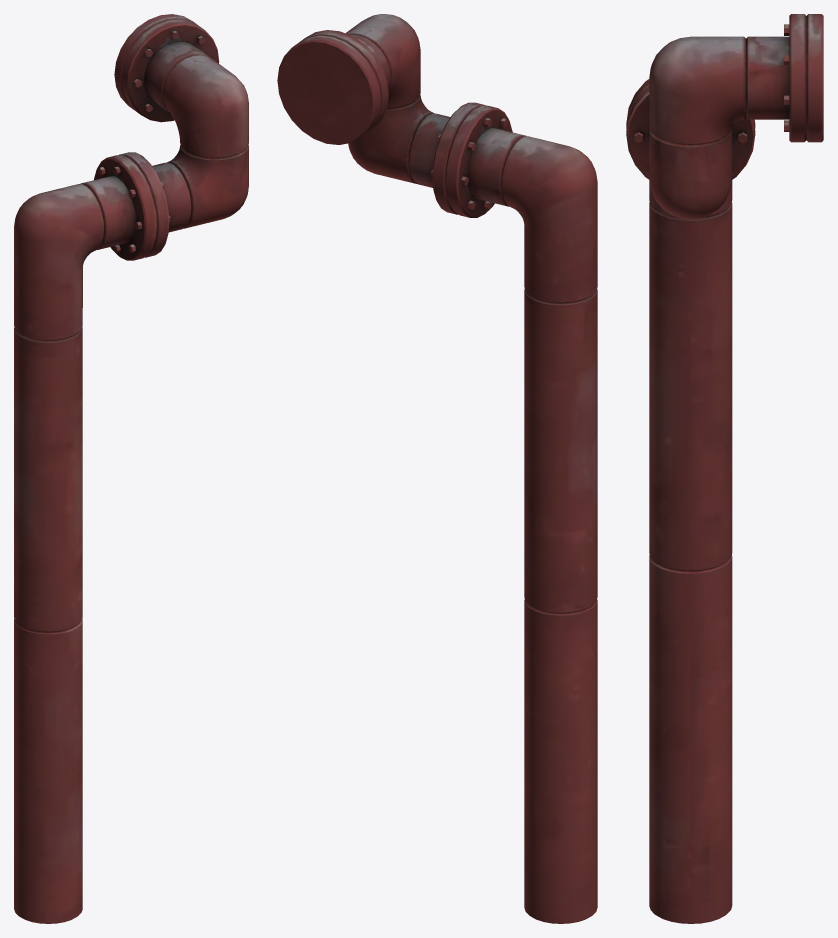
3 views of the same model, side by side, from view 1: azimuth 30°, elevation 25°; view 2: azimuth 150°, elevation 25°; view 3: azimuth 270°, elevation 25° (orthographic). The views are drawn at different scales.
Parts seen in each view (by area): view 1: body0_model0_lod0_mesh0; view 2: body0_model0_lod0_mesh0; view 3: body0_model0_lod0_mesh0.
Part boxes in pixels (<box>): body0_model0_lod0_mesh0: <box>14,14,248,923</box>; body0_model0_lod0_mesh0: <box>277,14,597,923</box>; body0_model0_lod0_mesh0: <box>626,14,823,923</box>.
Bounding box in the file's own units: 313 × 1006 × 182.
1 material, 1 textured.
